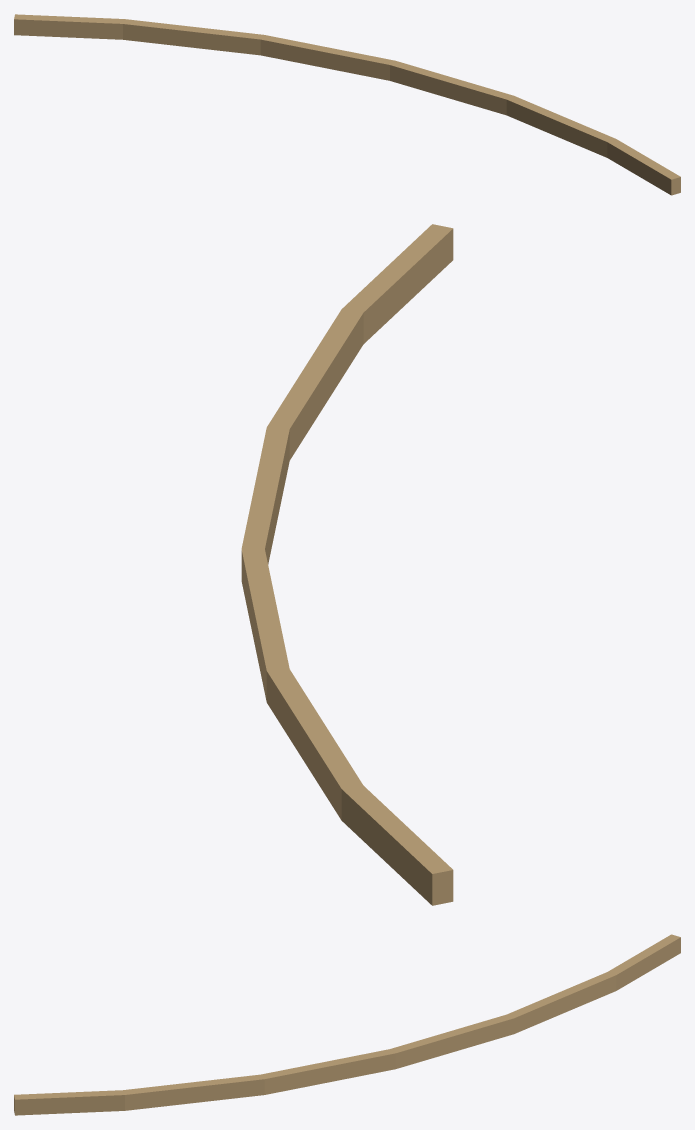
The picture shows the model from 3 angles, top to bottom: view 1: azimuth 30°, elevation 25°; view 2: azimuth 150°, elevation 25°; view 3: azimuth 270°, elevation 25°; orthographic projection. The views are drawn at different scales.
Parts seen in each view (by area): view 1: 外缘土纸层_外60度角.001; view 2: 外缘土纸层_外60度角.001; view 3: 外缘土纸层_外60度角.001.
Boxes of the visible parts, x1=… form: 外缘土纸层_外60度角.001: x1=14, y1=14, x2=680, y2=195; 外缘土纸层_外60度角.001: x1=241, y1=224, x2=453, y2=905; 外缘土纸层_外60度角.001: x1=14, y1=934, x2=680, y2=1115.
Bounding box in the file's own units: 0.5357 × 0.024 × 0.9134.
